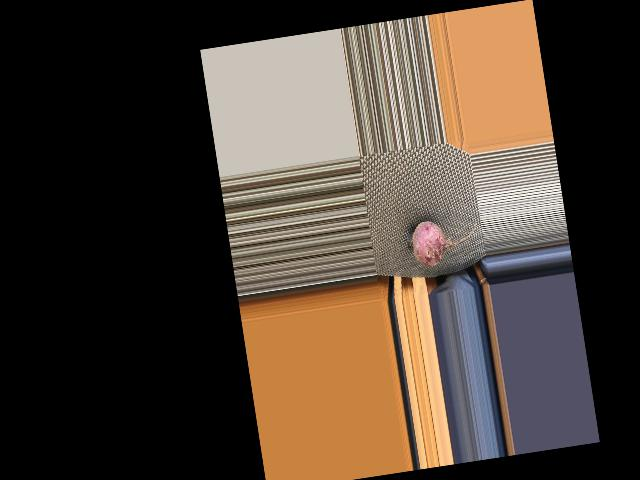beet: (403, 214, 480, 270)
